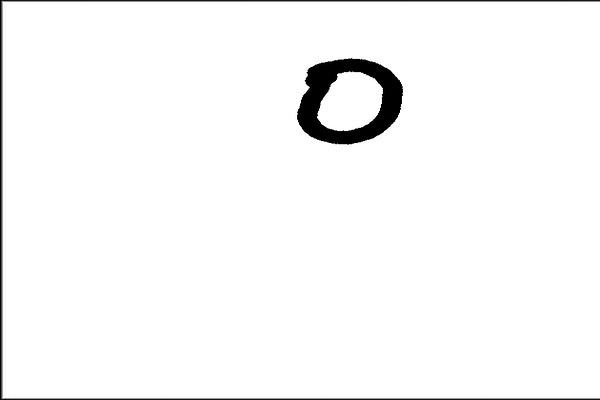O: (284, 41, 403, 149)
